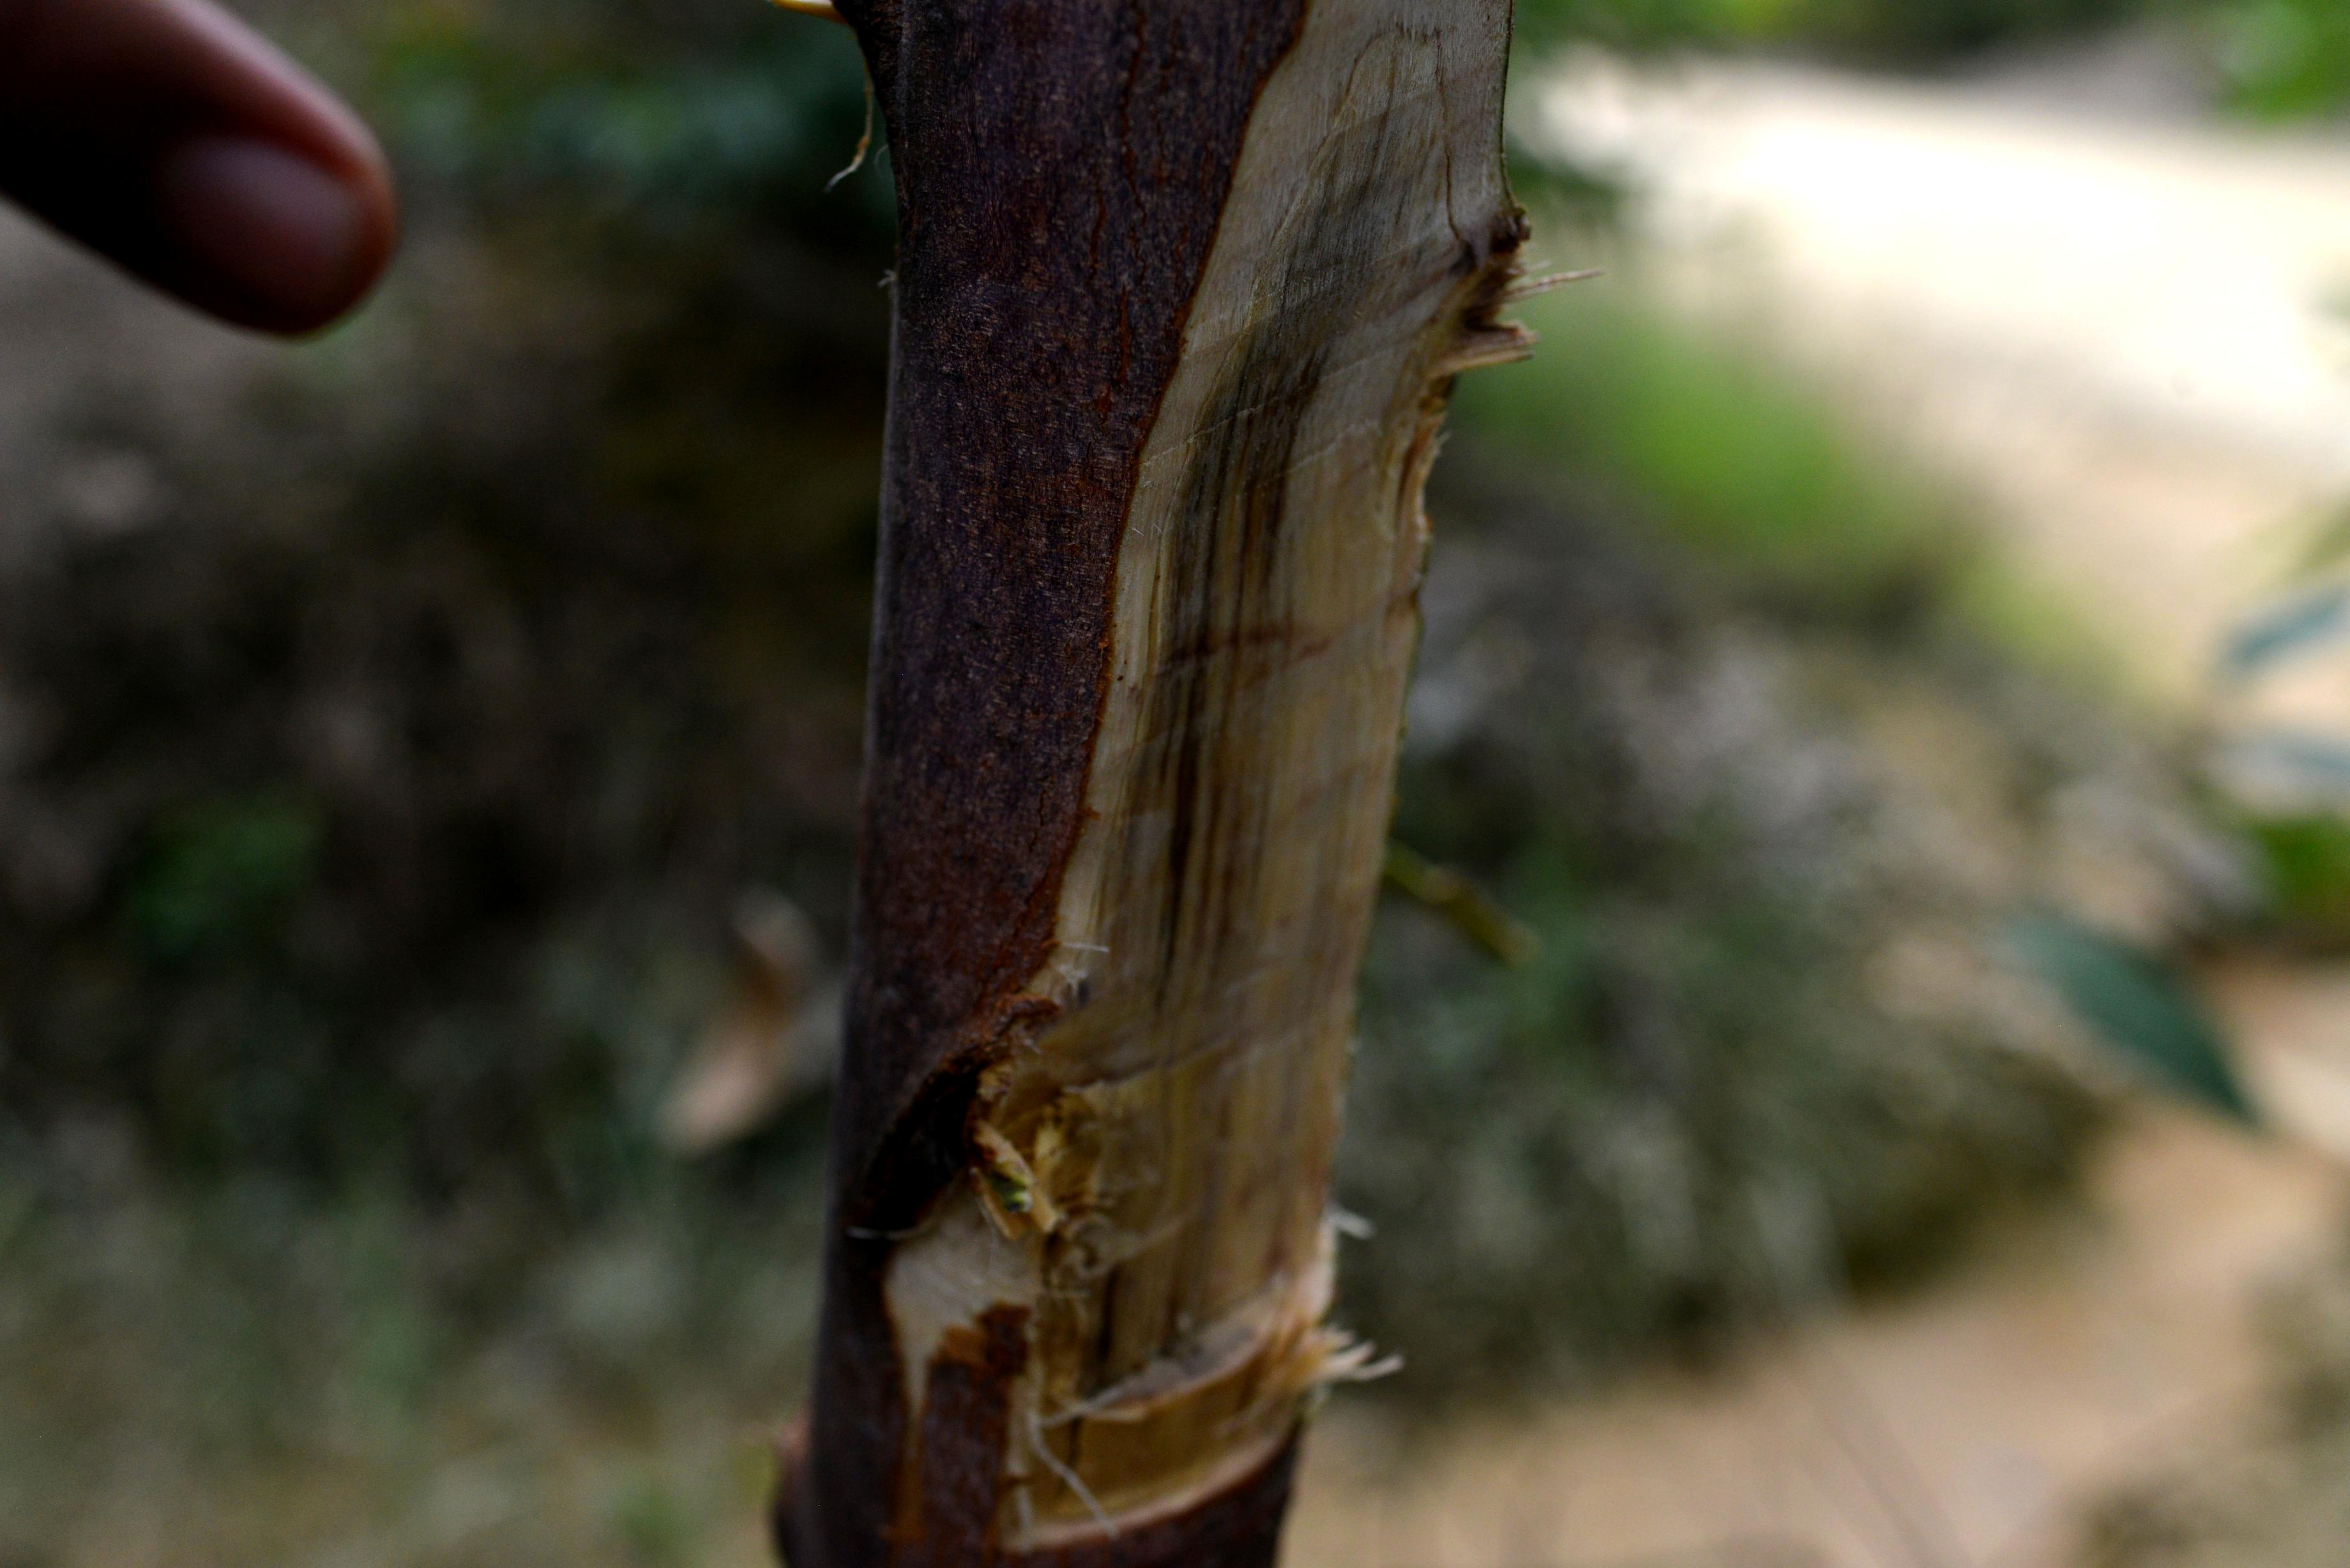Ralstonia: (889, 23, 1540, 1536)
